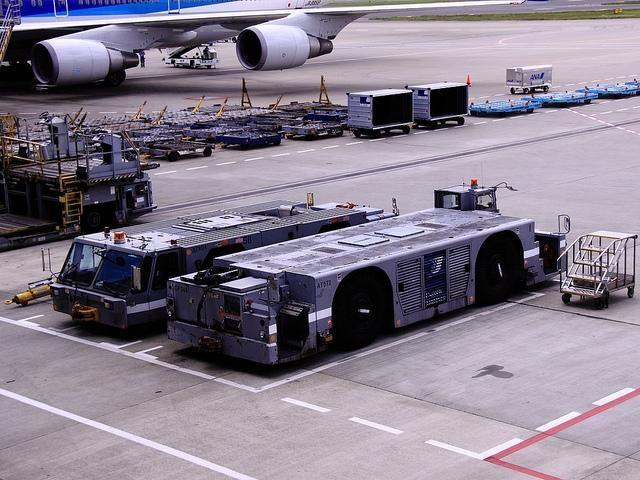truck: (166, 181, 568, 370), (36, 186, 402, 330), (407, 82, 468, 126), (505, 64, 553, 95)
